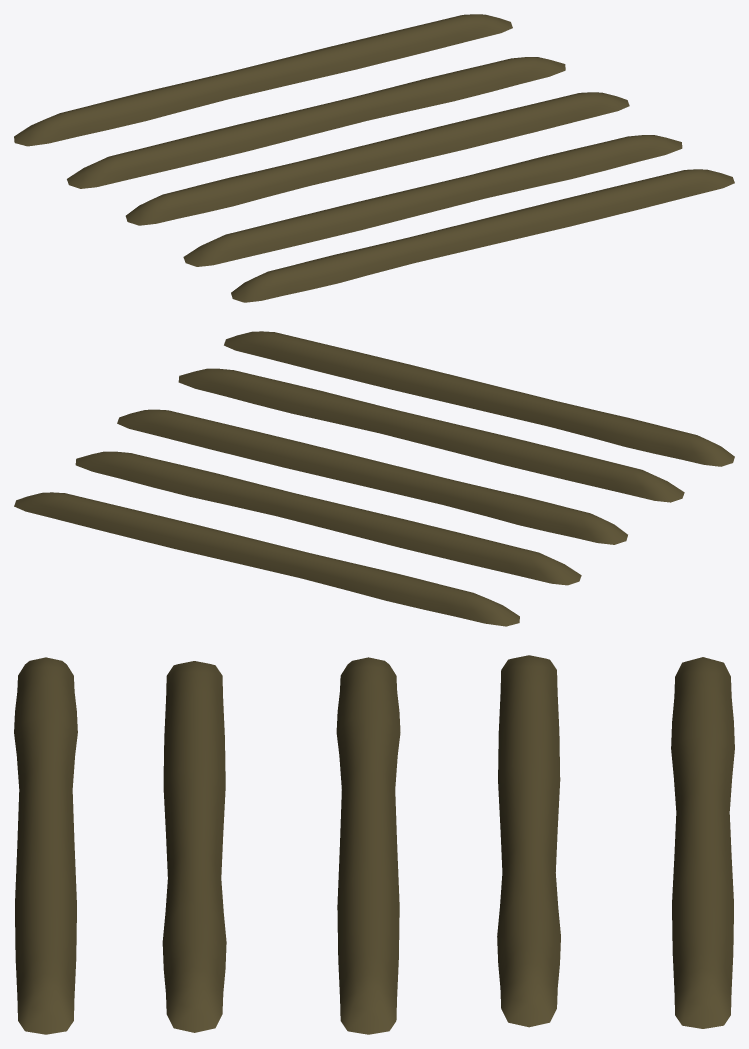
File: dirt_patch.glb
3 renders of one model, top to bottom at view 1: azimuth 30°, elevation 25°; view 2: azimuth 150°, elevation 25°; view 3: azimuth 270°, elevation 25°, orthographic. The views are drawn at different scales.
Visible parts, largest first — view 1: DirtPatch; view 2: DirtPatch; view 3: DirtPatch.
Boxes of the visible parts, <box> form: DirtPatch: <box>14,14,734,302</box>; DirtPatch: <box>14,331,734,626</box>; DirtPatch: <box>14,655,734,1034</box>.
Bounding box in the file's own units: 1.79 × 0.0563 × 1.44.
